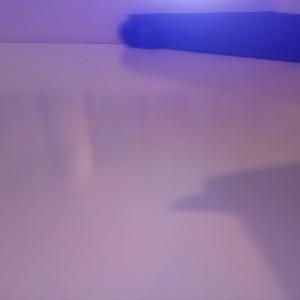dead_ball: (135, 23, 162, 49), (119, 19, 145, 46)
